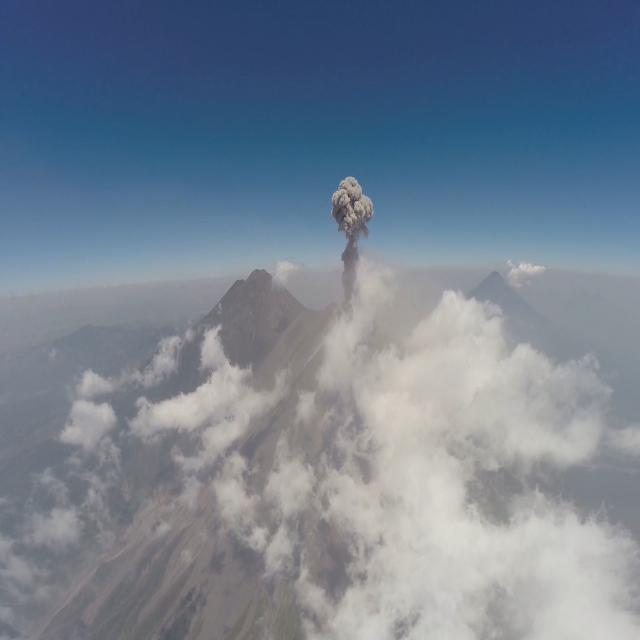Plume: (334, 172, 374, 286)
